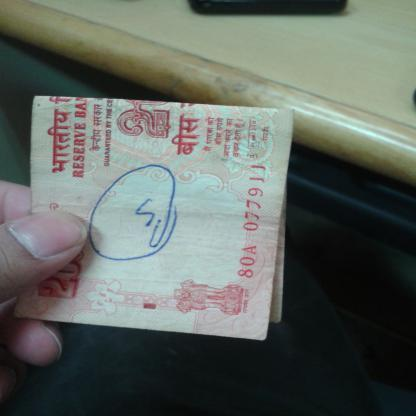Old20Front: (32, 98, 281, 326)
